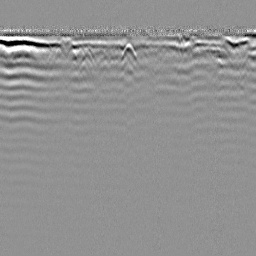cavity: (120, 40, 137, 61)
